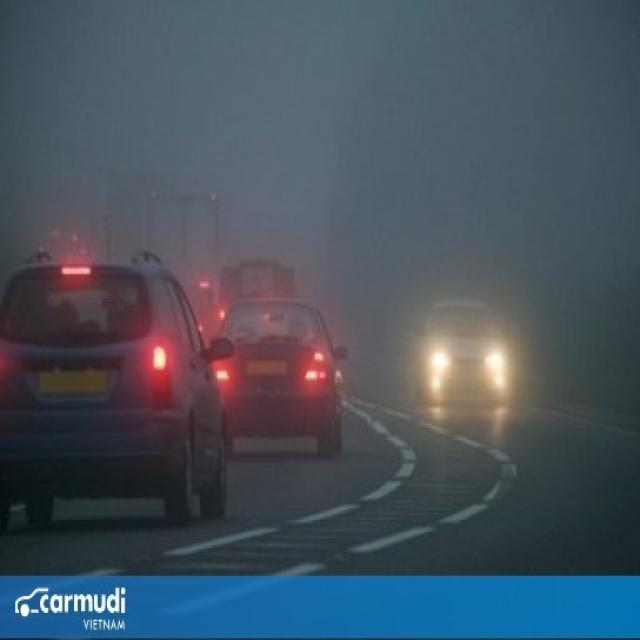Car: (0, 261, 233, 528), (200, 283, 350, 468), (405, 292, 518, 421)
